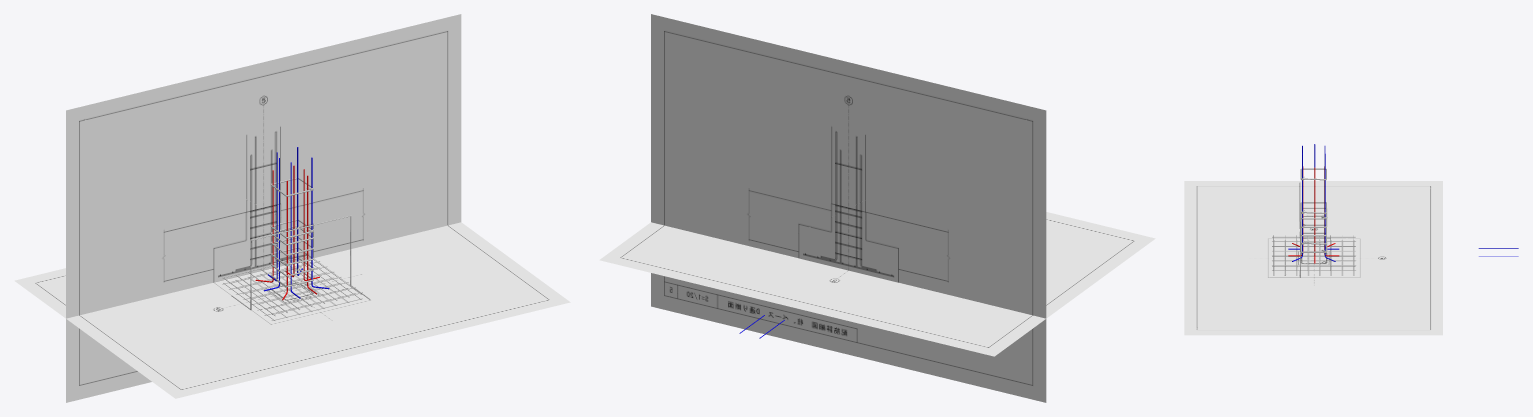
3 views of the same model, side by side, from view 1: azimuth 30°, elevation 25°; view 2: azimuth 150°, elevation 25°; view 3: azimuth 270°, elevation 25° (orthographic). The views are drawn at different scales.
Parts seen in each view (by area): view 1: 平面.001_平面.003, 平面_平面.001, 1360.012_01.014, _4-4__curve_.001__4-4__curve_.010; view 2: 平面.001_平面.003, 平面_平面.001; view 3: 平面_平面.001, 1360.012_01.014.
Part boxes in pixels (x1,y1,x2,y2): 平面.001_平面.003: (66,14,461,402); 平面_平面.001: (14,222,570,398); 1360.012_01.014: (222,256,362,316); _4-4__curve_.001__4-4__curve_.010: (231,215,369,309); 平面.001_平面.003: (651,14,1046,402); 平面_平面.001: (599,212,1155,356); 平面_平面.001: (1184,181,1442,335); 1360.012_01.014: (1272,235,1355,270).
Size of the model in its own units: 5940 by 4200 by 5424.
